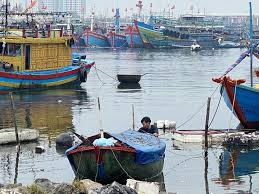tau_dansu: (1, 11, 88, 88), (74, 116, 168, 181), (208, 44, 259, 138), (133, 18, 224, 51), (105, 8, 127, 54), (127, 20, 145, 49)
